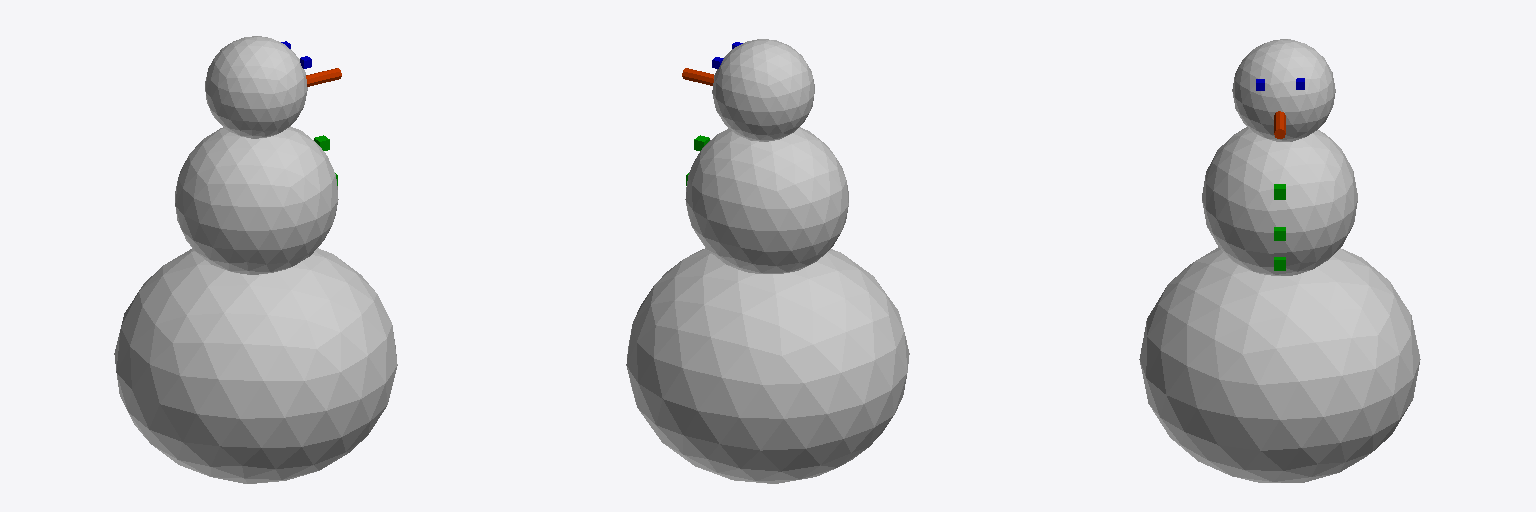
File: snowman.obj
3 views of the same model, side by side, from view 1: azimuth 30°, elevation 25°; view 2: azimuth 150°, elevation 25°; view 3: azimuth 270°, elevation 25° (orthographic).
Visible parts, largest first — view 1: ungrouped; view 2: ungrouped; view 3: ungrouped, button.
Boxes of the visible parts, <box> form: ungrouped: <box>114,36,397,483</box>; ungrouped: <box>626,39,909,483</box>; ungrouped: <box>1139,39,1420,482</box>; button: <box>1274,184,1285,270</box>.
Size of the model in its own units: 31.71 by 52.15 by 31.13.